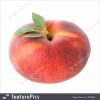Peach leaf: (13, 26, 42, 35), (30, 12, 45, 28), (21, 32, 45, 39)
